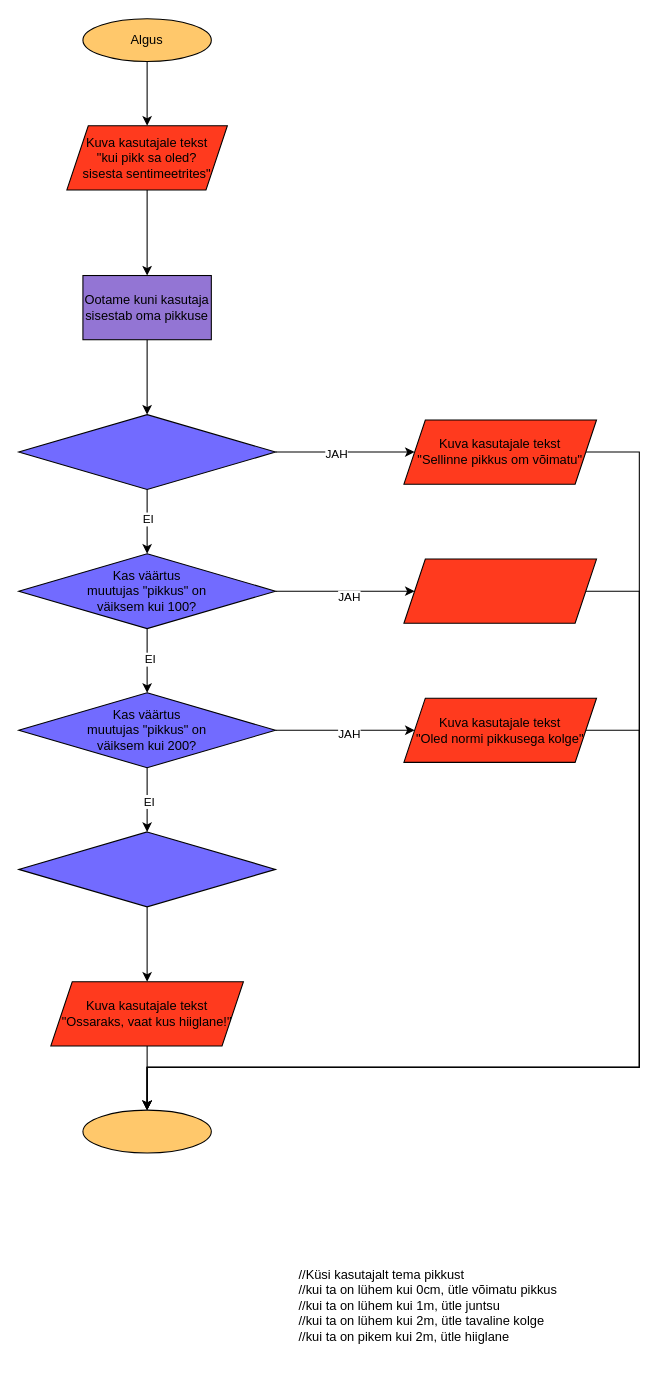
The diagram is 667 pixels wide and 1386 high, and some of its shapes have lost their labels. Each missing label, with the centre of its shape:
Kas väärtus muutujas "pikkus" on suurem kui 200?: point (147, 869)
Kas väärtus muutujas "pikkus" on väiksem kui 0?: point (147, 452)
Kuva kasutajale tekst "Oled juntsu, hit the gym": point (500, 590)
Lõpp: point (146, 1131)
